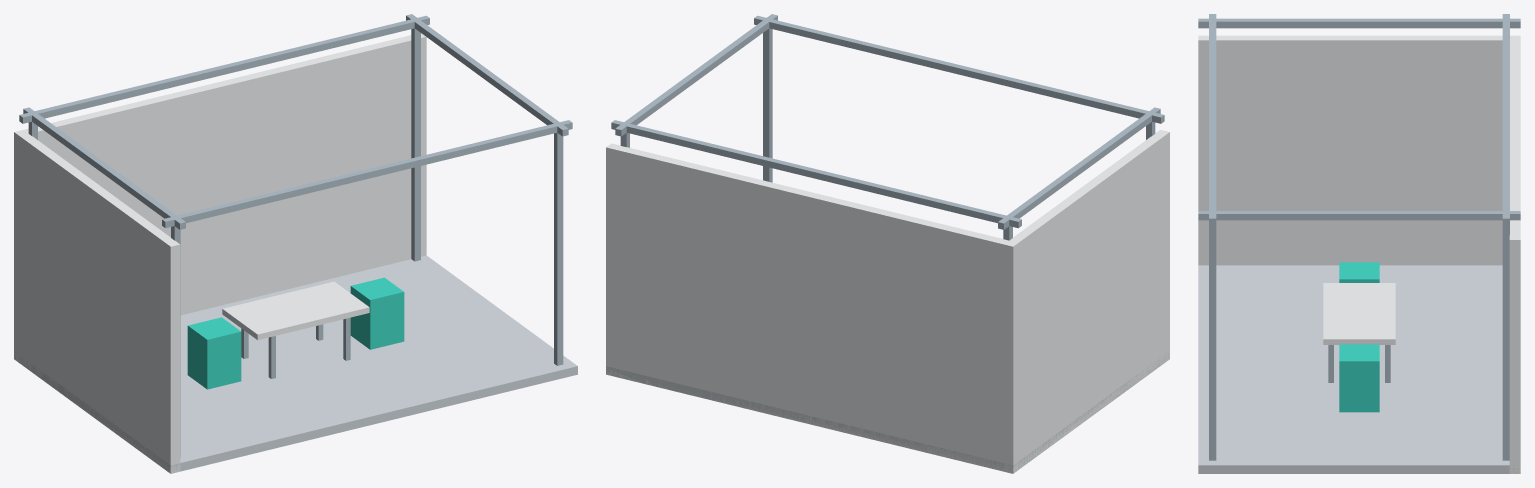
3 renders of one model, left to right at view 1: azimuth 30°, elevation 25°; view 2: azimuth 150°, elevation 25°; view 3: azimuth 270°, elevation 25°, orthographic. The views are drawn at different scales.
Visible parts, largest first — view 1: Exhibition Booth Concept; view 2: Exhibition Booth Concept; view 3: Exhibition Booth Concept.
Part boxes in pixels (x1,y1,x2,y2): Exhibition Booth Concept: (14,14,577,473); Exhibition Booth Concept: (606,14,1169,473); Exhibition Booth Concept: (1198,14,1520,473).
Size of the model in its own units: 6 by 3.49 by 4.
